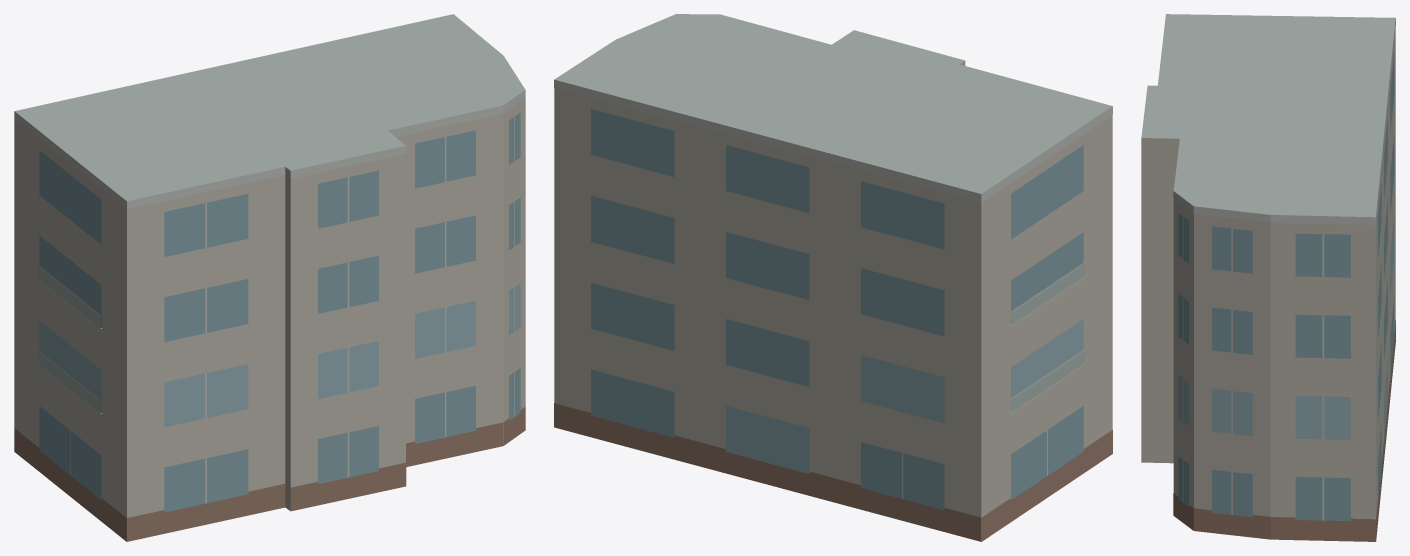
File: survey-upis-32712379.glb
The picture shows the model from 3 angles, left to right: view 1: azimuth 30°, elevation 25°; view 2: azimuth 150°, elevation 25°; view 3: azimuth 270°, elevation 25°; orthographic projection. The views are drawn at different scales.
Visible parts, largest first — view 1: survey-upis-32712379.tmp; view 2: survey-upis-32712379.tmp; view 3: survey-upis-32712379.tmp.
Boxes of the visible parts, bbox=[...] form: survey-upis-32712379.tmp: bbox=[14, 14, 525, 541]; survey-upis-32712379.tmp: bbox=[554, 14, 1112, 541]; survey-upis-32712379.tmp: bbox=[1141, 14, 1395, 541].
Bounding box in the file's own units: 13.7 × 10.2 × 7.25.
